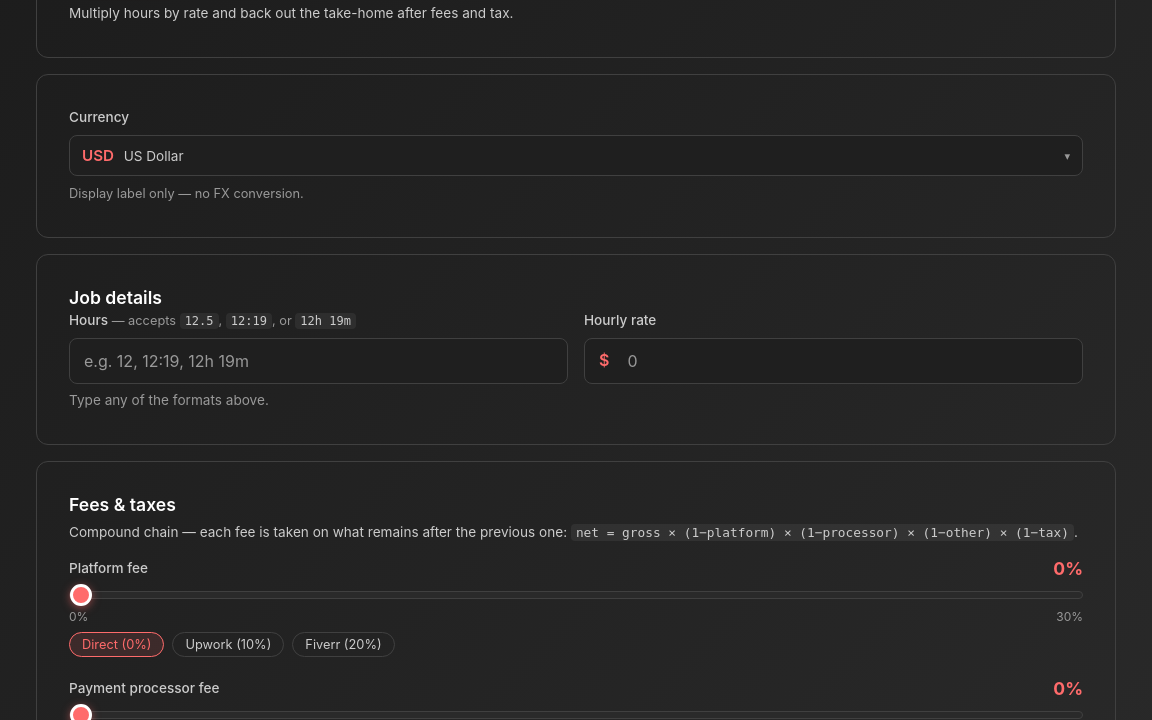
Scenario: <FreelanceRateCalculator /> — Quote mode › Hours field accepts 12:19 and shows the parsed label
This screenshot has width=1152, height=720.
(page scrolled)
Type "12:19" into the field labelled "Hours — accepts 12.5, 12:19, or 12h 19m" at (318, 361), box [69,338,568,384]
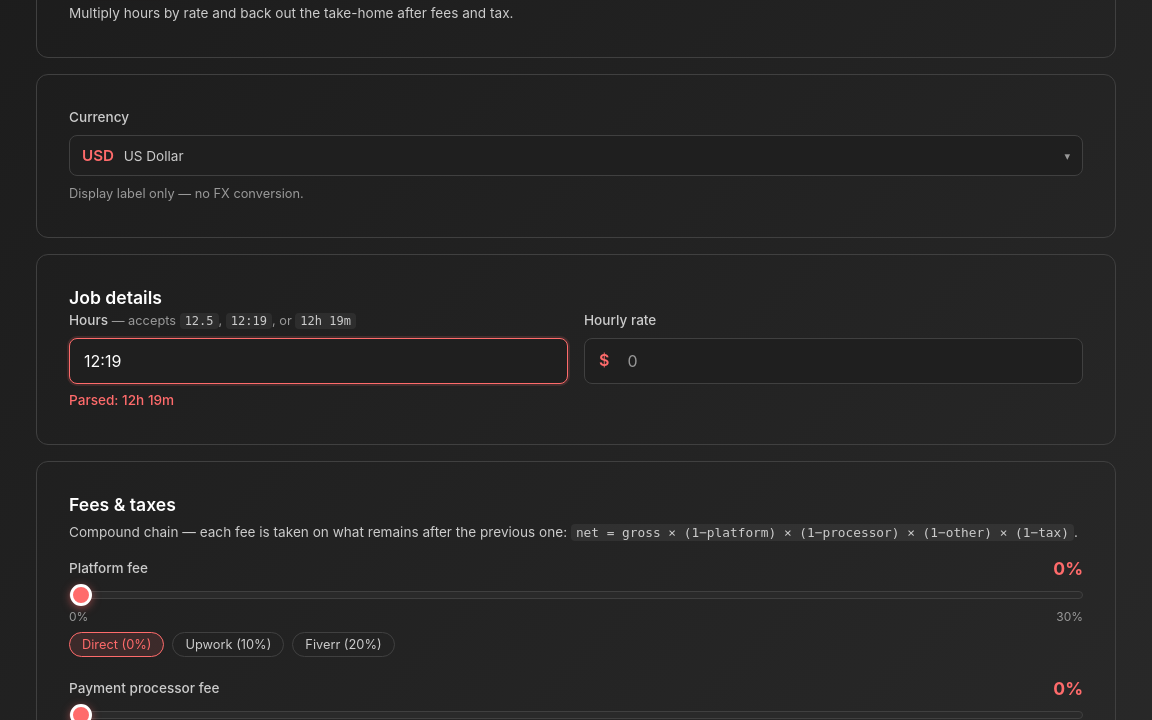
Type "100" into the number field labelled "Hourly rate" at (848, 361), box [613,339,1082,383]
(page scrolled)
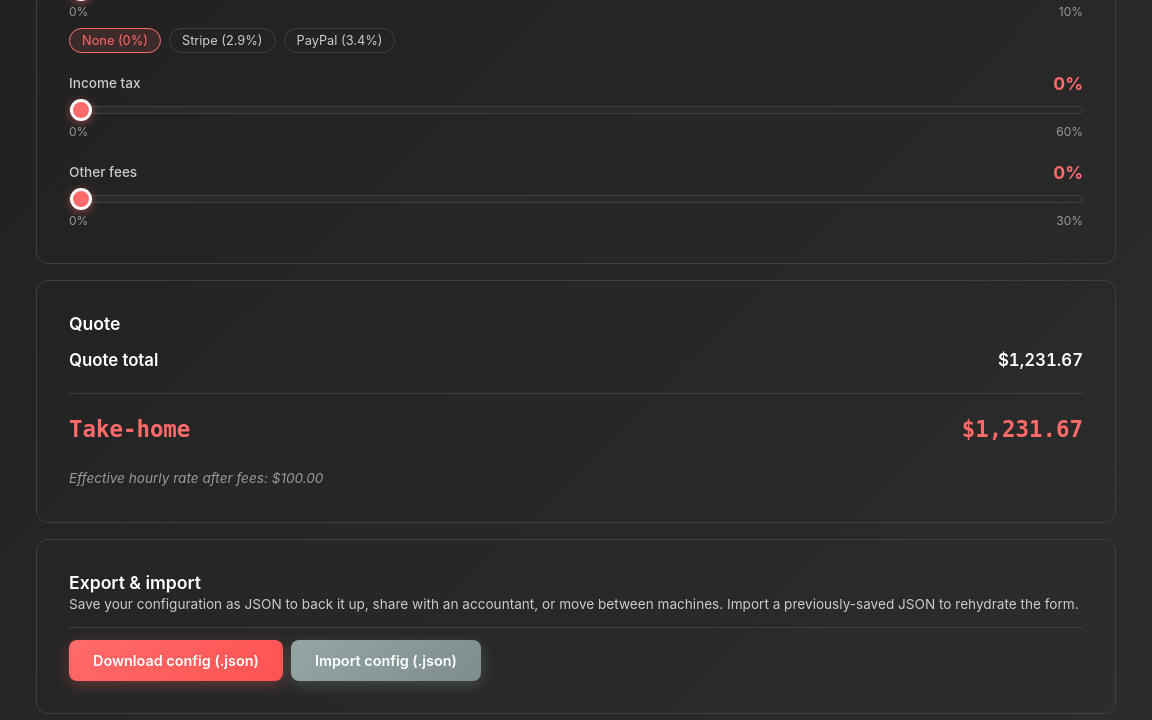
Expected: the text "$1,231.67" in the row of "Quote total" is shown, [998,350,1083,370]
